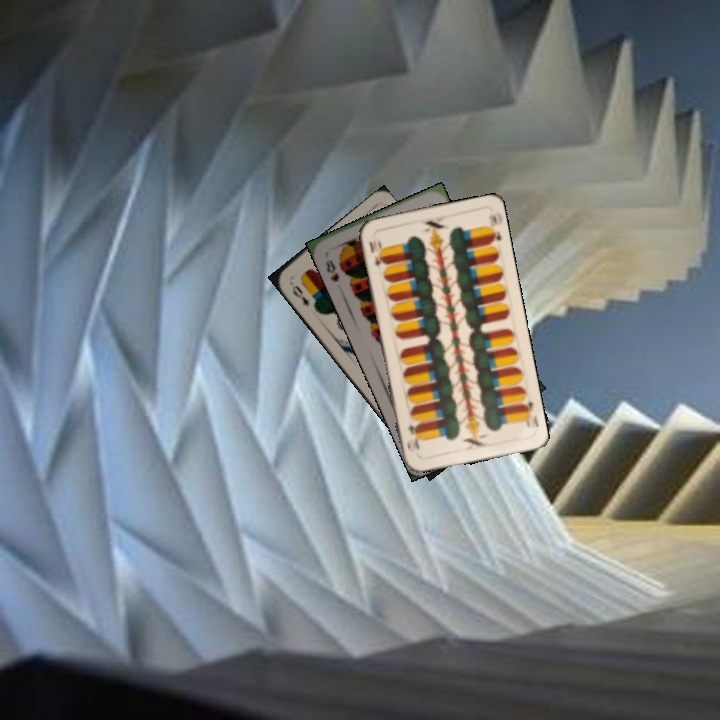E10: (365, 237, 388, 272), (518, 396, 541, 430)
EO: (286, 278, 312, 309)
S8: (322, 255, 342, 284)
